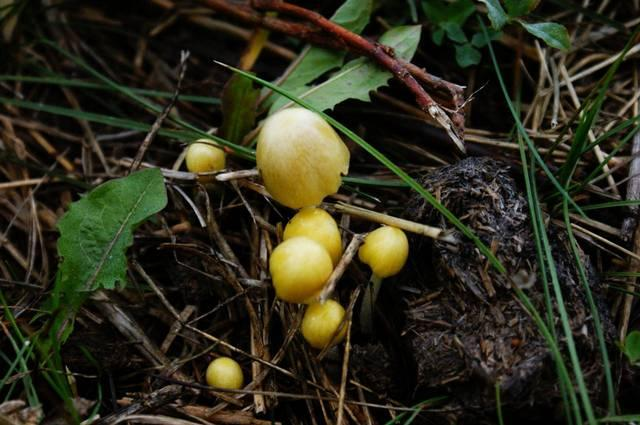edible_mushroom: (259, 211, 360, 345), (255, 105, 350, 208), (362, 214, 410, 286), (183, 133, 231, 185), (205, 356, 243, 390)
